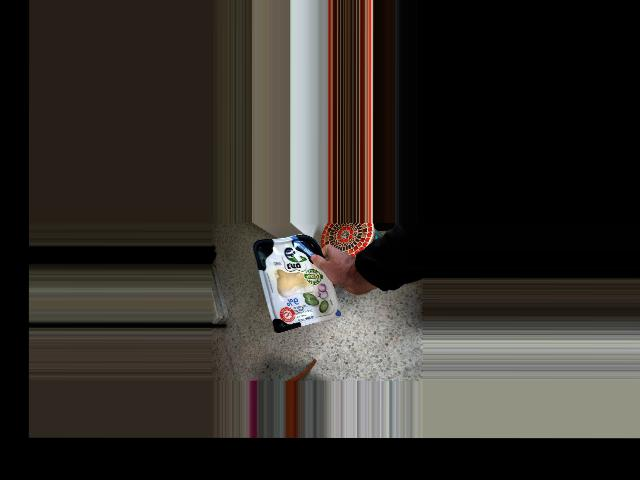cheese: (252, 233, 340, 327)
